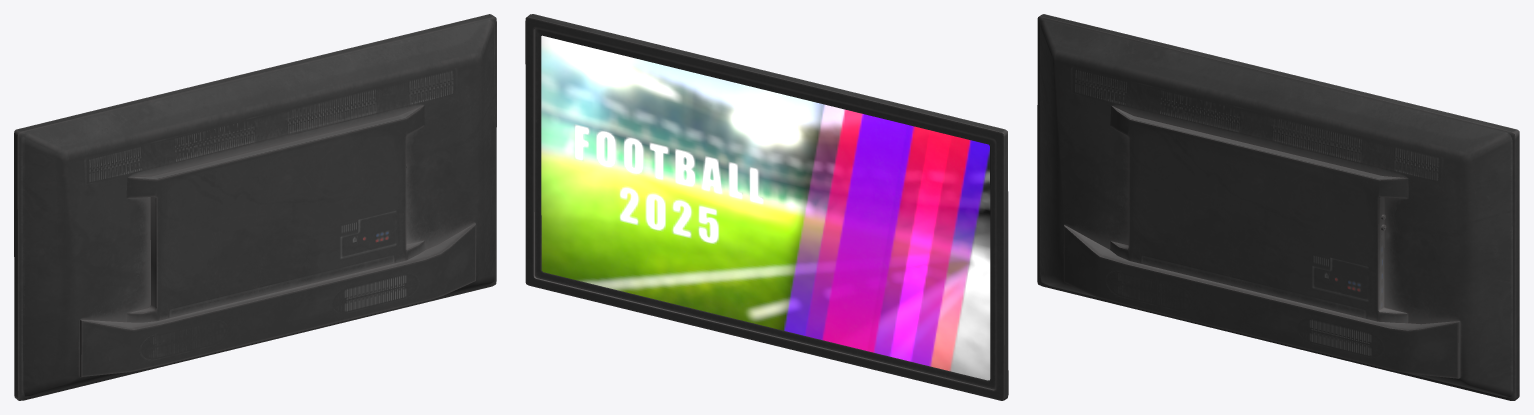
Rendered from SM_Monitor_01.fbx.
The picture shows the model from 3 angles, left to right: view 1: azimuth 30°, elevation 25°; view 2: azimuth 150°, elevation 25°; view 3: azimuth 330°, elevation 25°; orthographic projection.
Parts seen in each view (by area): view 1: SM_Monitor_01_LOD0; view 2: SM_Monitor_01_LOD0; view 3: SM_Monitor_01_LOD0.
Boxes of the visible parts, box(x1,y1,x2,y2) form: SM_Monitor_01_LOD0: box(14, 14, 496, 400); SM_Monitor_01_LOD0: box(525, 14, 1008, 400); SM_Monitor_01_LOD0: box(1037, 14, 1519, 400).
Bounding box in the file's own units: 233 × 26.68 × 125.
Materials: 1 (1 with a texture image).
